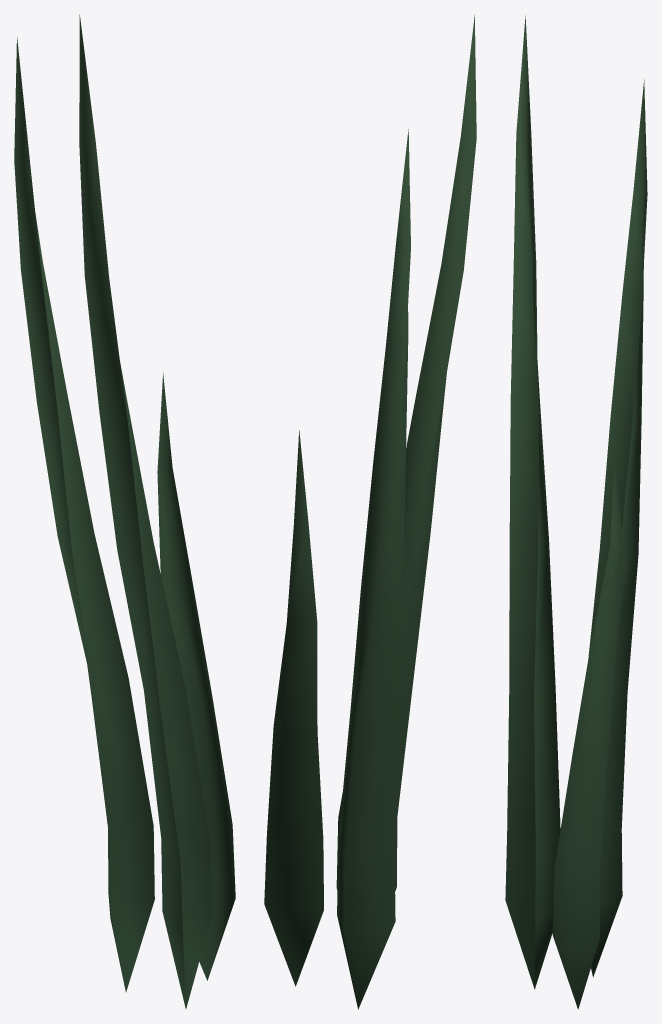
File: trees-grasses-grass-blades_v3.glb
The picture shows the model from 3 angles, left to right: view 1: azimuth 30°, elevation 25°; view 2: azimuth 150°, elevation 25°; view 3: azimuth 270°, elevation 25°; orthographic projection. The views are drawn at different scales.
Parts seen in each view (by area): view 1: Grass Blades_v3; view 2: Grass Blades_v3; view 3: Grass Blades_v3.
Boxes of the visible parts, <box> form: Grass Blades_v3: <box>14,14,235,1008</box>; Grass Blades_v3: <box>264,15,476,1009</box>; Grass Blades_v3: <box>505,15,647,1009</box>.
Size of the model in its own units: 0.0546 by 0.3 by 0.0417.
